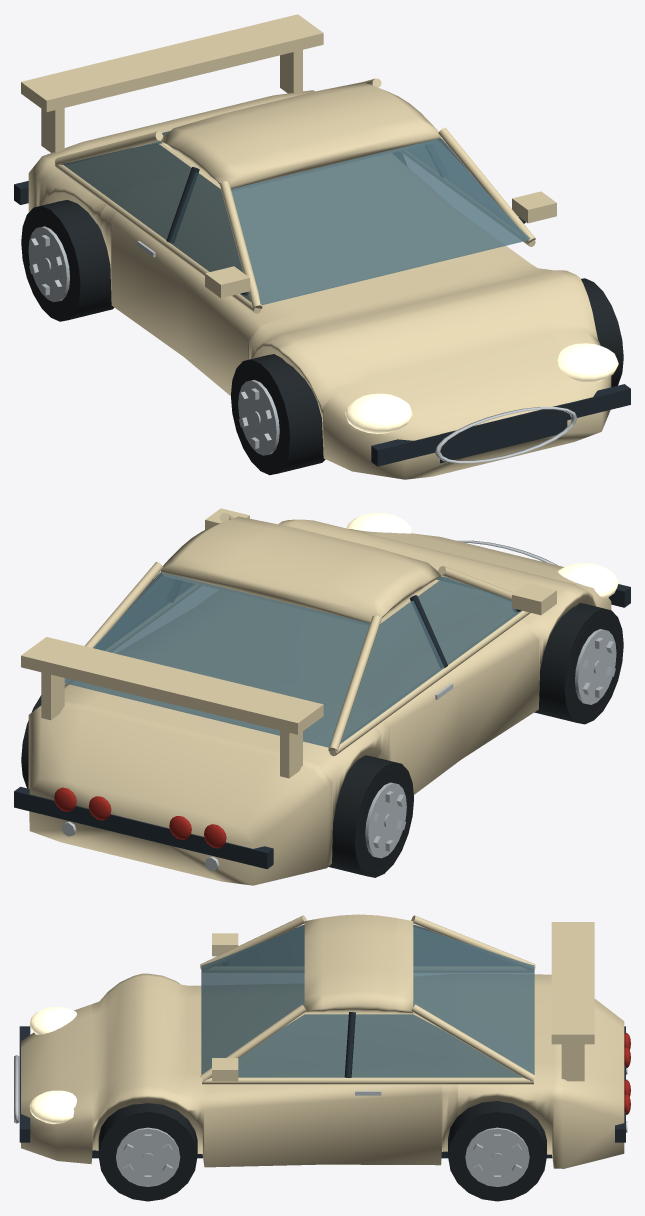
The model's file is aichi.glb.
The picture shows the model from 3 angles, top to bottom: view 1: azimuth 30°, elevation 25°; view 2: azimuth 150°, elevation 25°; view 3: azimuth 270°, elevation 25°; orthographic projection. The views are drawn at different scales.
Visible parts, largest first — view 1: exterior-paint, windows, black-trim, tire-rear-left, tire-front-left, headlights, rim-front-left, rim-rear-left, tire-front-right, chrome; view 2: exterior-paint, windows, tire-front-left, tire-rear-left, black-trim, rim-rear-left, rim-front-left, headlights, taillights, chrome; view 3: exterior-paint, windows, tire-rear-right, tire-front-right, rim-front-right, rim-rear-right, headlights, black-trim, chrome, taillights.
Boxes of the visible parts, left/top/right/bottom form: exterior-paint: left=21, top=14, right=611, bottom=479; windows: left=62, top=131, right=529, bottom=305; black-trim: left=14, top=146, right=630, bottom=466; tire-rear-left: left=21, top=200, right=114, bottom=321; tire-front-left: left=231, top=354, right=325, bottom=475; headlights: left=345, top=343, right=618, bottom=433; rim-front-left: left=238, top=380, right=279, bottom=455; rim-rear-left: left=28, top=226, right=69, bottom=302; tire-front-right: left=581, top=278, right=623, bottom=386; chrome: left=137, top=241, right=577, bottom=463; exterior-paint: left=21, top=508, right=611, bottom=885; windows: left=64, top=572, right=522, bottom=747; tire-front-left: left=534, top=603, right=623, bottom=724; tire-rear-left: left=328, top=755, right=413, bottom=877; black-trim: left=14, top=584, right=630, bottom=869; rim-rear-left: left=365, top=782, right=406, bottom=858; rim-front-left: left=575, top=629, right=616, bottom=704; headlights: left=346, top=512, right=618, bottom=598; taillights: left=54, top=787, right=226, bottom=848; chrome: left=61, top=540, right=557, bottom=871; exterior-paint: left=21, top=914, right=624, bottom=1168; windows: left=201, top=924, right=534, bottom=1077; tire-rear-right: left=448, top=1101, right=546, bottom=1201; tire-front-right: left=98, top=1103, right=197, bottom=1201; rim-front-right: left=116, top=1127, right=180, bottom=1186; rim-rear-right: left=465, top=1127, right=529, bottom=1186; headlights: left=29, top=1007, right=77, bottom=1124; black-trim: left=19, top=1012, right=625, bottom=1158; chrome: left=14, top=1055, right=627, bottom=1132; taillights: left=624, top=1033, right=630, bottom=1114.
Size of the model in its own units: 2.03 by 1.22 by 3.74.
